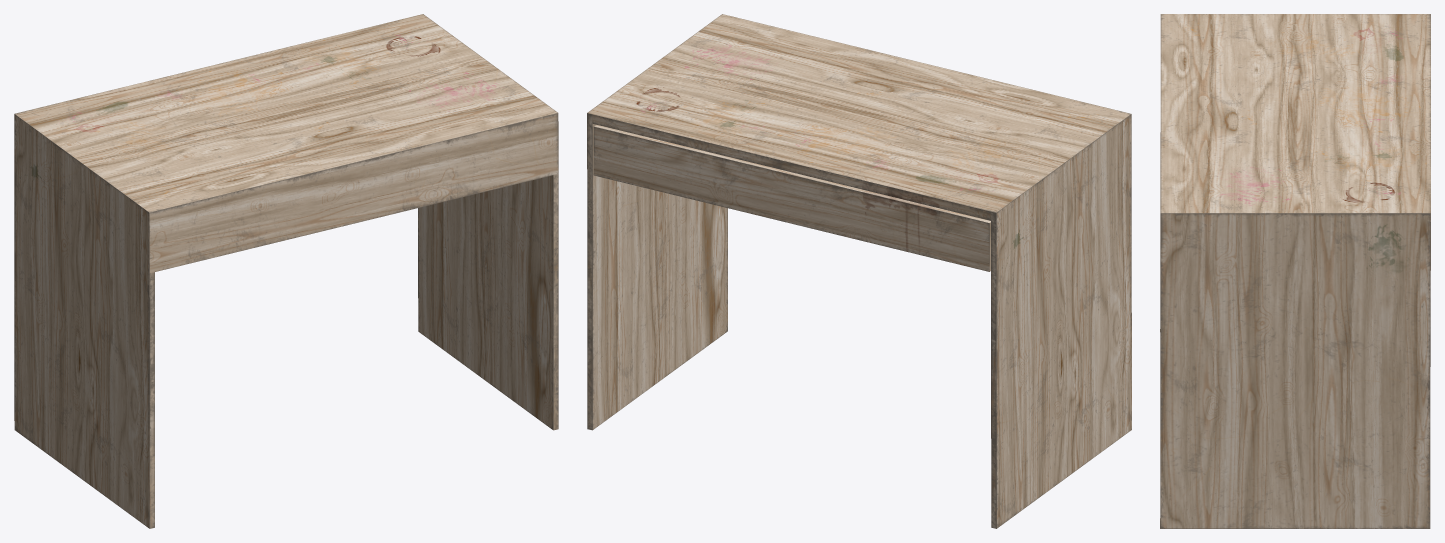
The model's file is table2.fbx.
3 views of the same model, side by side, from view 1: azimuth 30°, elevation 25°; view 2: azimuth 150°, elevation 25°; view 3: azimuth 270°, elevation 25° (orthographic).
Visible parts, largest first — view 1: table; view 2: table; view 3: table.
Boxes of the visible parts, left/top/right/bottom form: table: left=14, top=14, right=558, bottom=528; table: left=587, top=14, right=1131, bottom=528; table: left=1160, top=14, right=1430, bottom=528.
Bounding box in the file's own units: 2.09 × 1.54 × 1.2.
Materials: 1 (1 with a texture image).
